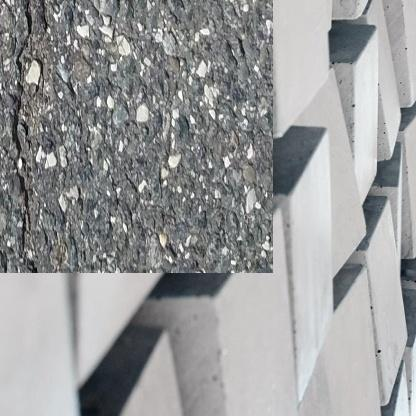Cracks: (8, 0, 54, 247)
